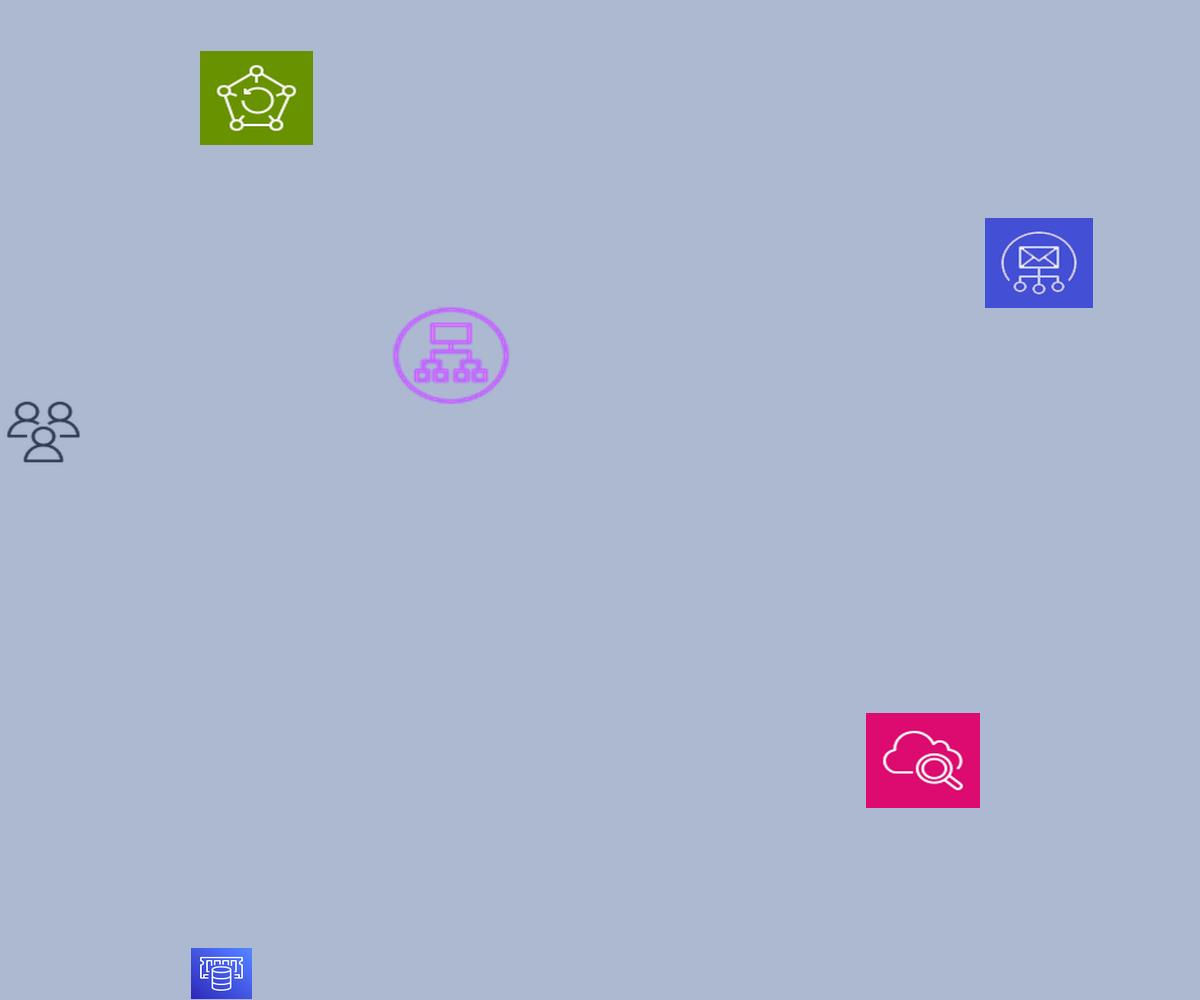AWS-Backup: (200, 51, 313, 145)
AWS-CloudWatch: (866, 713, 980, 808)
AWS-ElastiCache: (191, 948, 252, 999)
AWS-Res_Elastic-Load-Balancing_Application-Load-Balancer: (388, 303, 514, 408)
AWS-Res_Users: (4, 399, 83, 465)
AWS-Simple-Email-Service: (985, 218, 1093, 308)
